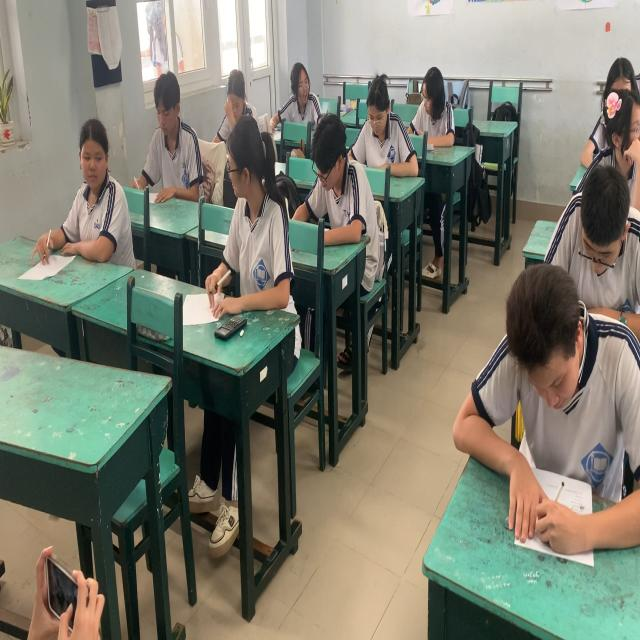cheating: (208, 115, 299, 320), (56, 110, 126, 274), (279, 50, 325, 134)
not_cheating: (476, 252, 640, 500), (551, 162, 640, 297), (299, 100, 370, 243), (138, 66, 200, 203), (342, 54, 407, 170), (596, 65, 640, 183), (210, 47, 258, 155), (416, 53, 456, 157)
